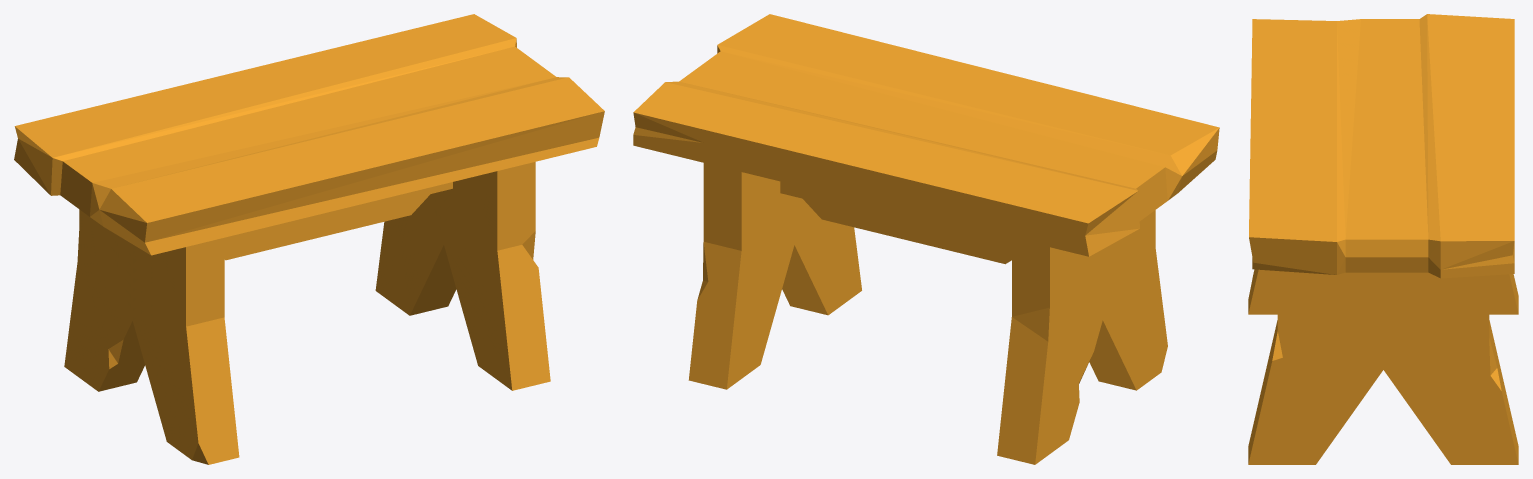
Rendered from SM_Stool_Wooden.fbx.
3 views of the same model, side by side, from view 1: azimuth 30°, elevation 25°; view 2: azimuth 150°, elevation 25°; view 3: azimuth 270°, elevation 25° (orthographic).
Parts seen in each view (by area): view 1: stool-wooden; view 2: stool-wooden; view 3: stool-wooden.
Boxes of the visible parts, x1=… form: stool-wooden: x1=14, y1=14, x2=604, y2=464; stool-wooden: x1=633, y1=14, x2=1219, y2=464; stool-wooden: x1=1248, y1=14, x2=1518, y2=464.
Bounding box in the file's own units: 0.9499 × 0.4935 × 0.4759.
